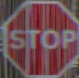Stop: (6, 5, 74, 62)
